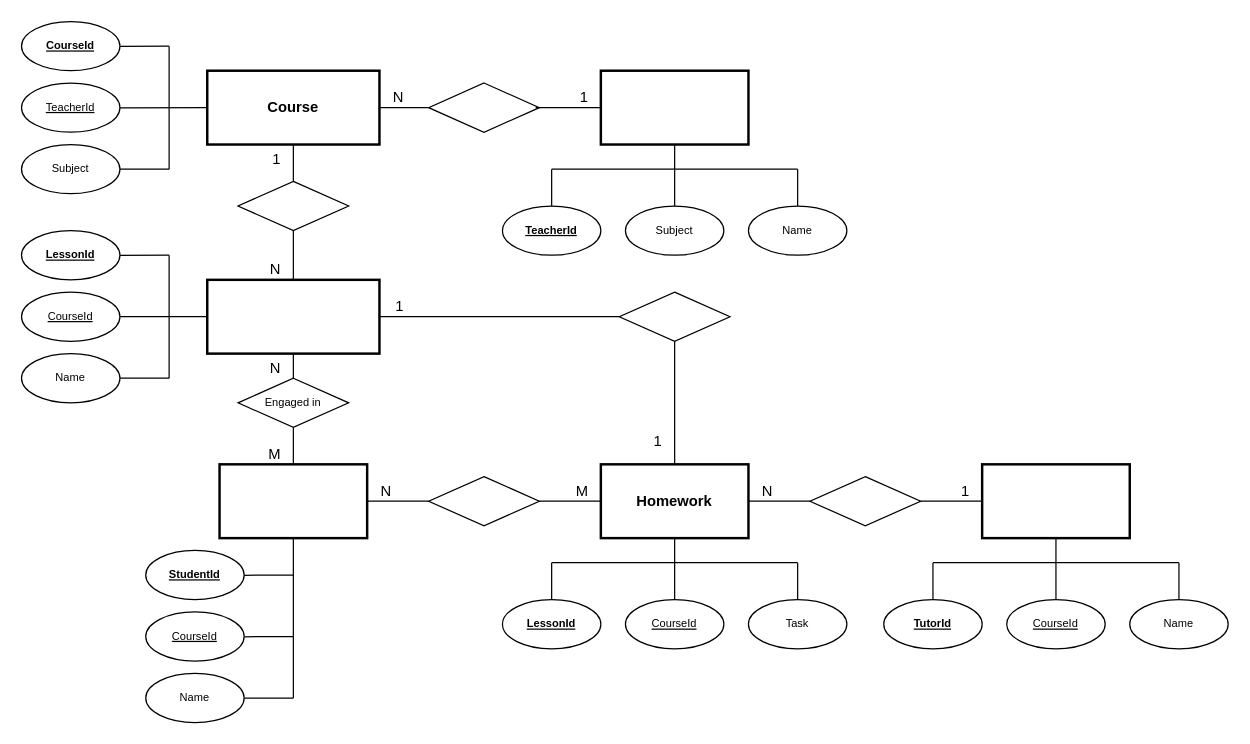
This 1250x744 diagram has some shape labels left out. The box of each missing label's shape, as (x1, y1, x2, y2) in pixels:
belongs to: (618, 291, 730, 341)
Checks: (809, 475, 921, 526)
Consists of: (237, 180, 349, 231)
Do: (427, 475, 539, 526)
Lesson: (205, 278, 380, 354)
Student: (218, 462, 368, 539)
Teacher: (599, 69, 749, 145)
Teachs: (427, 82, 539, 132)
Tutor: (980, 462, 1130, 539)
